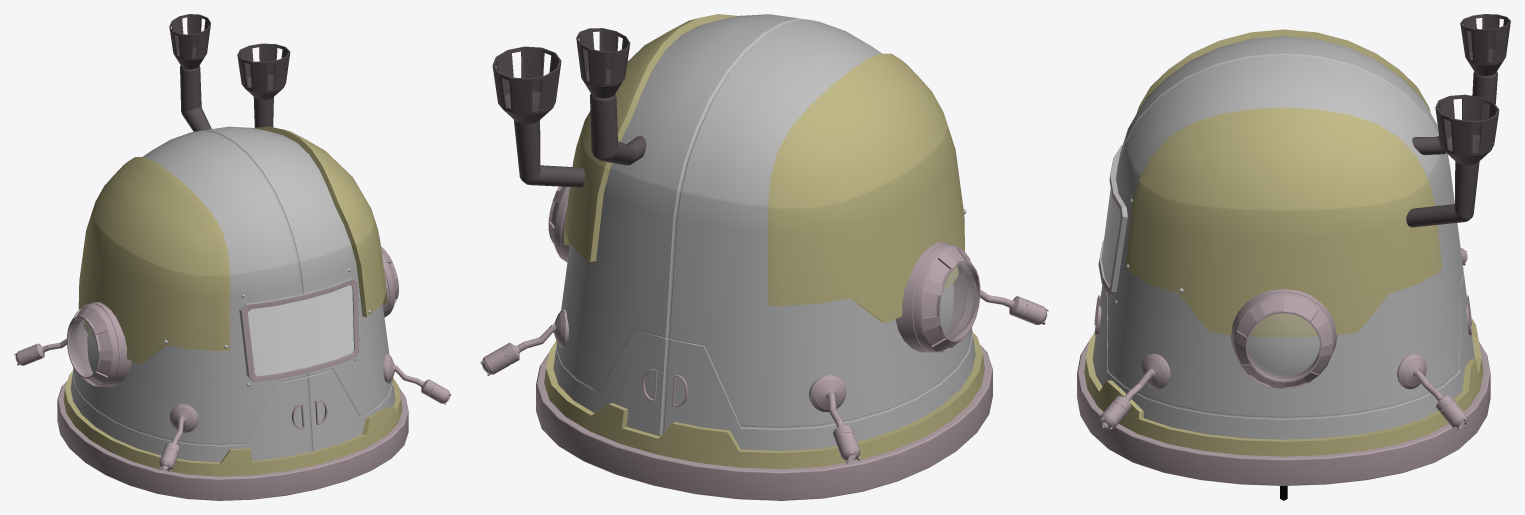
File: SP_Mech01.fbx
3 views of the same model, side by side, from view 1: azimuth 30°, elevation 25°; view 2: azimuth 150°, elevation 25°; view 3: azimuth 270°, elevation 25° (orthographic). The views are drawn at different scales.
Parts seen in each view (by area): view 1: SP_Mech01; view 2: SP_Mech01; view 3: SP_Mech01.
Boxes of the visible parts, x1,y1,x2,y2 form: SP_Mech01: [14, 14, 451, 500]; SP_Mech01: [480, 14, 1048, 500]; SP_Mech01: [1077, 14, 1510, 500].
Size of the model in its own units: 2.33 by 2.67 by 2.29.
